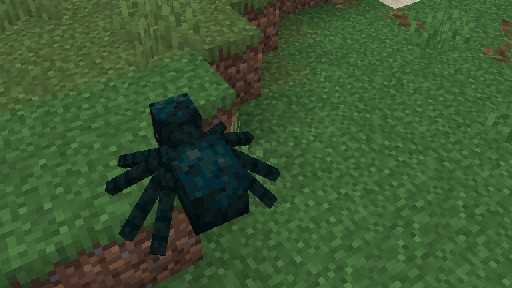cave_spider: (104, 92, 280, 255)
